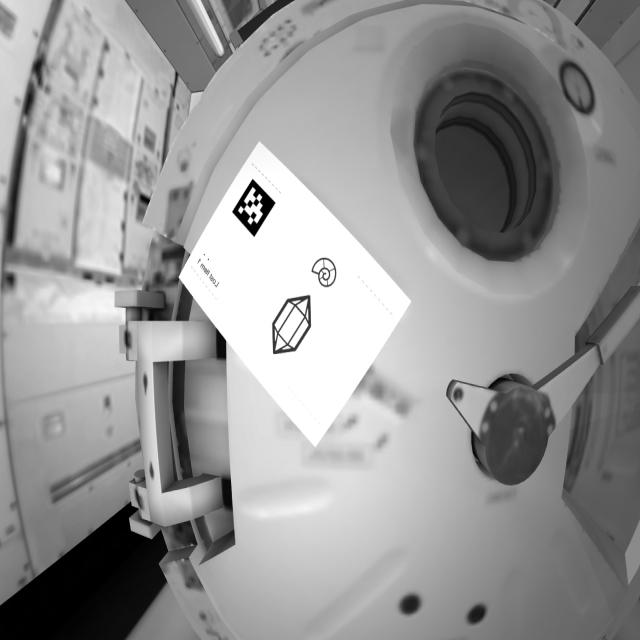crystal: (264, 288, 322, 363)
fossil: (313, 248, 342, 293)
